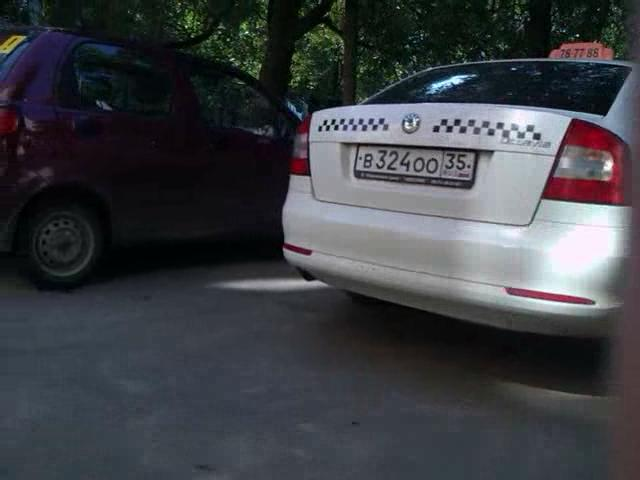car license plate: (353, 140, 476, 190)
